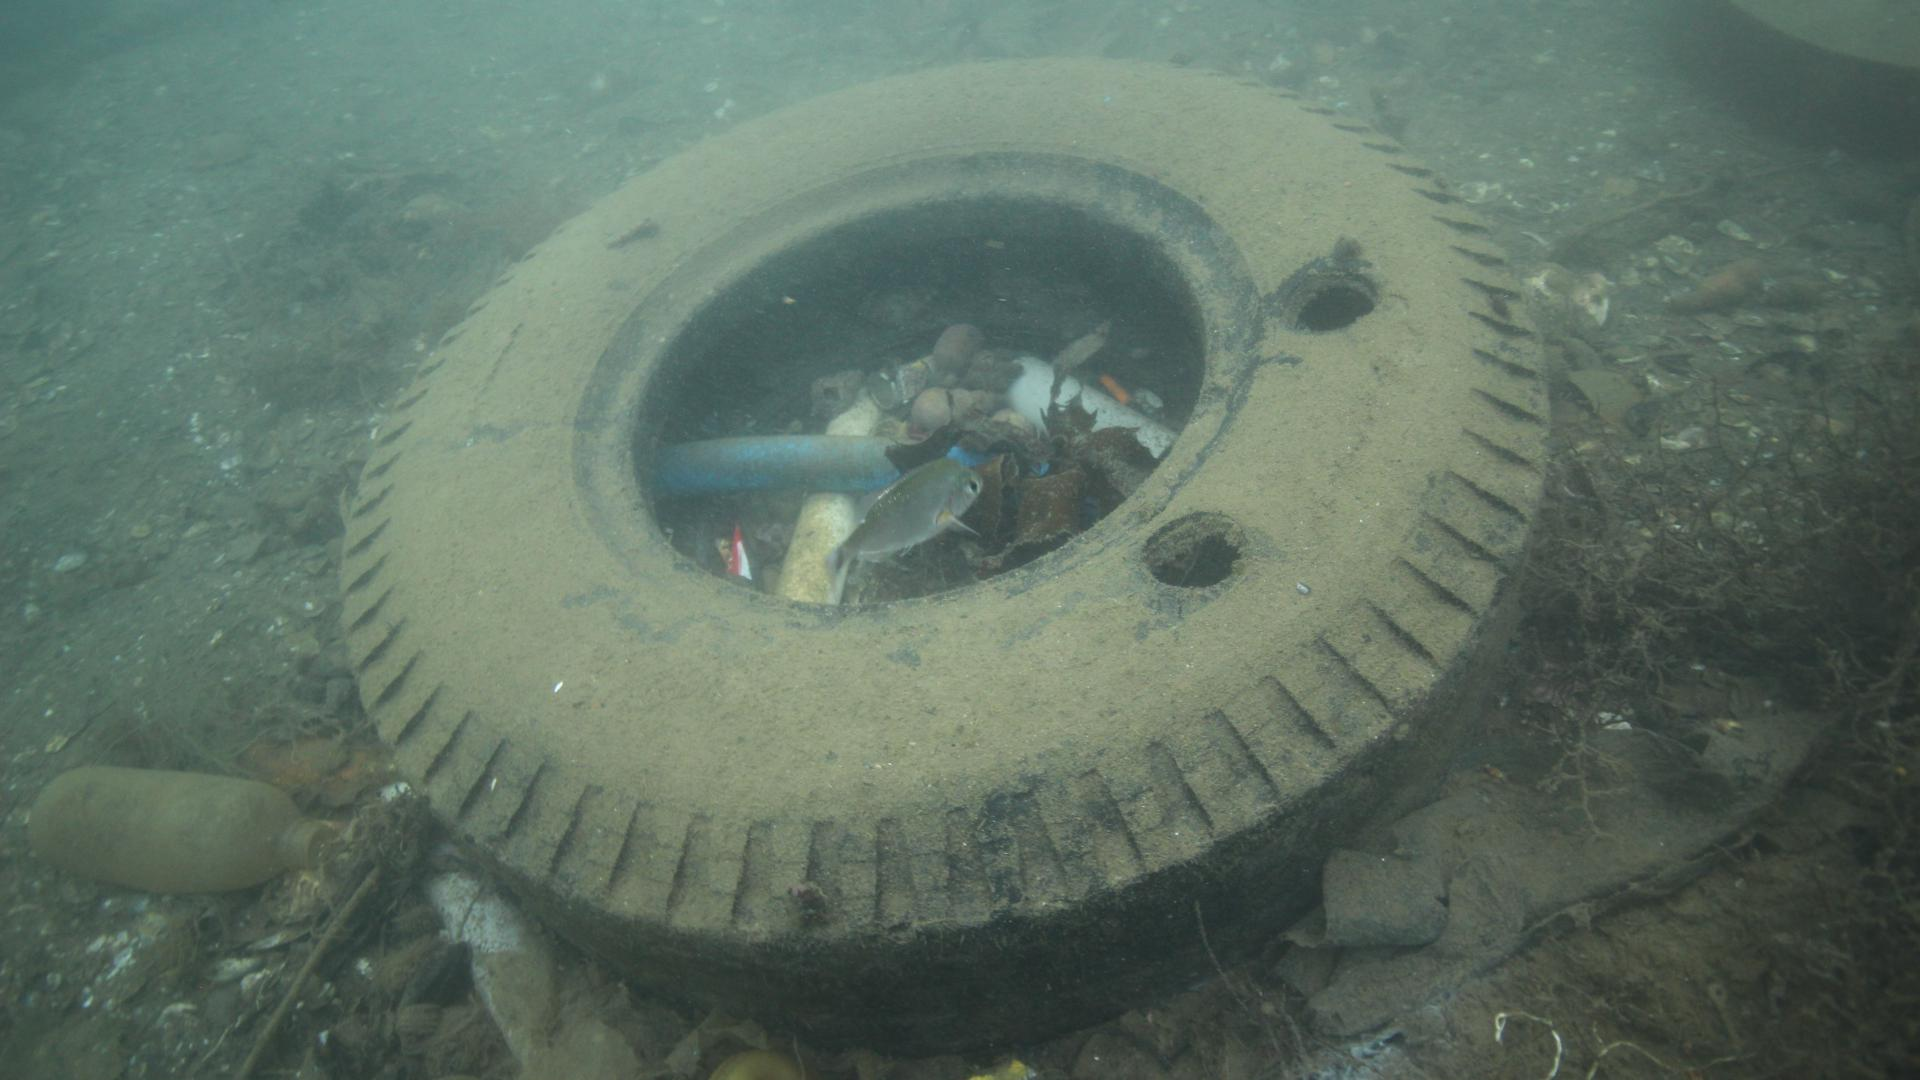tire: (336, 54, 1549, 1065)
